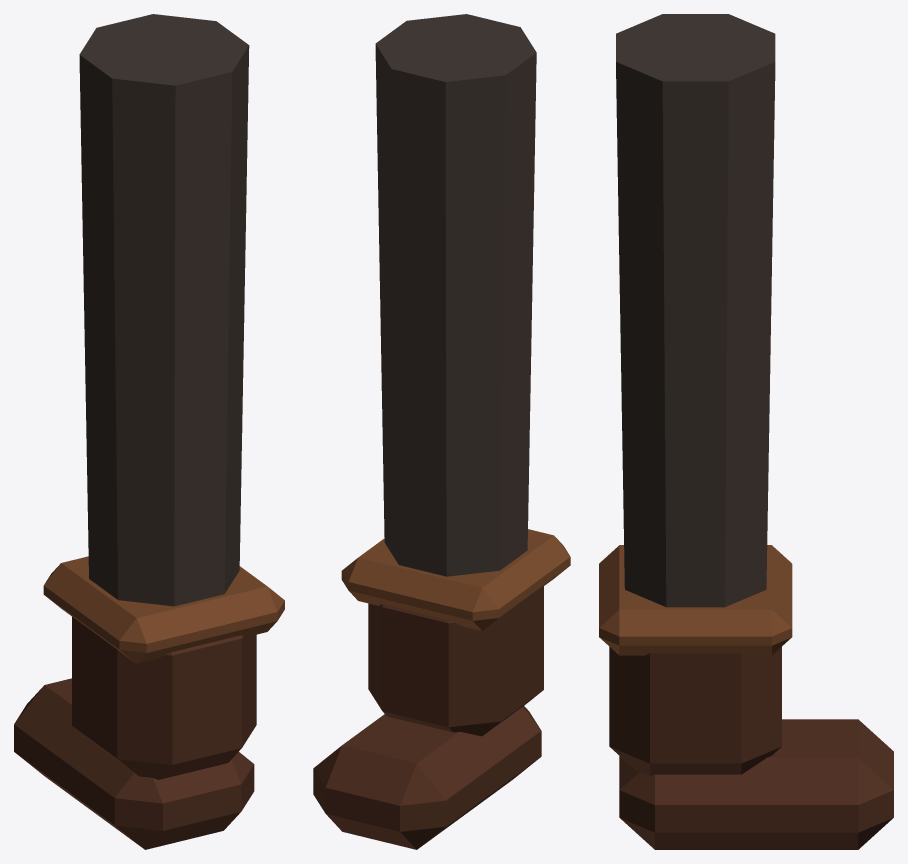
File: becchino_gamba.glb
The picture shows the model from 3 angles, left to right: view 1: azimuth 30°, elevation 25°; view 2: azimuth 150°, elevation 25°; view 3: azimuth 270°, elevation 25°; orthographic projection. The views are drawn at different scales.
Parts seen in each view (by area): view 1: becchino_gamba2; view 2: becchino_gamba2; view 3: becchino_gamba2.
Boxes of the visible parts, box(x1,y1,x2,y2) form: becchino_gamba2: box(14, 14, 284, 849); becchino_gamba2: box(313, 14, 570, 849); becchino_gamba2: box(599, 14, 893, 849).
Size of the model in its own units: 0.19 by 0.85 by 0.29.
